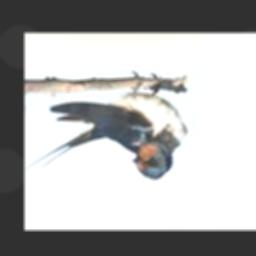Swallow: (24, 75, 185, 179)
